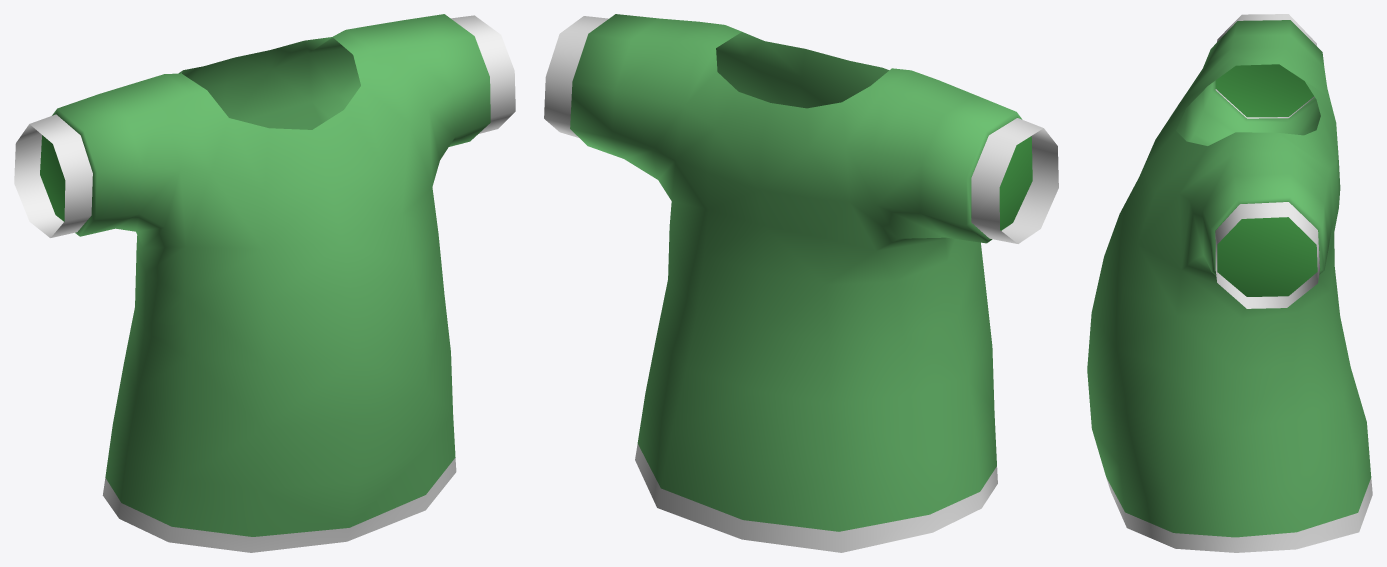
File: Outerwear_Green_015.glb
3 renders of one model, left to right at view 1: azimuth 30°, elevation 25°; view 2: azimuth 150°, elevation 25°; view 3: azimuth 270°, elevation 25°, orthographic. The views are drawn at different scales.
Parts seen in each view (by area): view 1: Outerwear_Green_015; view 2: Outerwear_Green_015; view 3: Outerwear_Green_015.
Boxes of the visible parts, bbox=[...] form: Outerwear_Green_015: bbox=[14, 14, 515, 552]; Outerwear_Green_015: bbox=[544, 14, 1058, 552]; Outerwear_Green_015: bbox=[1087, 14, 1372, 552].
Bounding box in the file's own units: 0.6893 × 0.6211 × 0.4041.
1 material, 1 textured.
